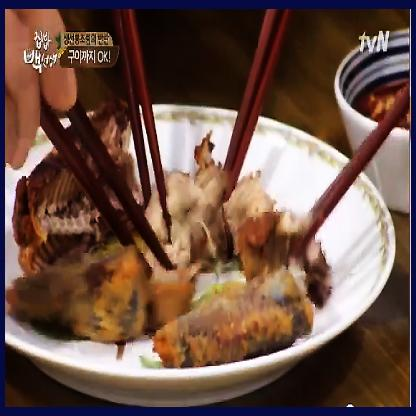Peixe: (15, 125, 337, 380)
